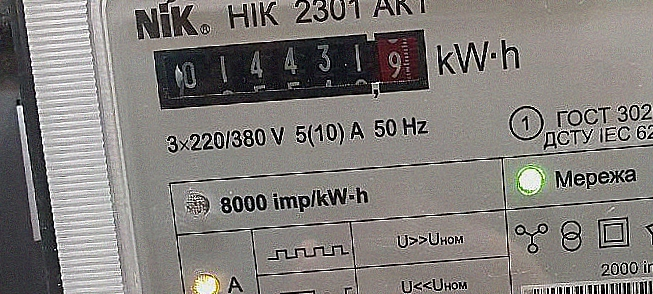0: (178, 57, 199, 91)
1: (214, 51, 233, 85), (351, 41, 365, 73)
3: (314, 42, 334, 75)
4: (245, 47, 267, 80), (280, 42, 299, 77)
9: (385, 47, 403, 79)
screen: (144, 21, 442, 118)
